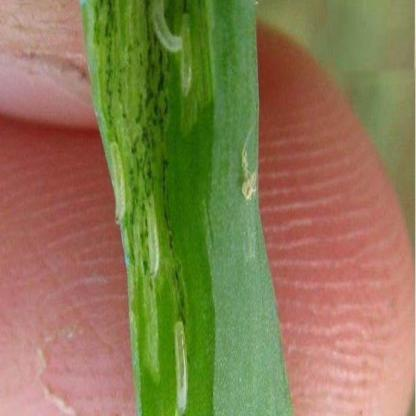whorl-maggot: (106, 132, 130, 229), (141, 187, 163, 290), (172, 313, 194, 416), (144, 0, 185, 55), (180, 10, 196, 96)
